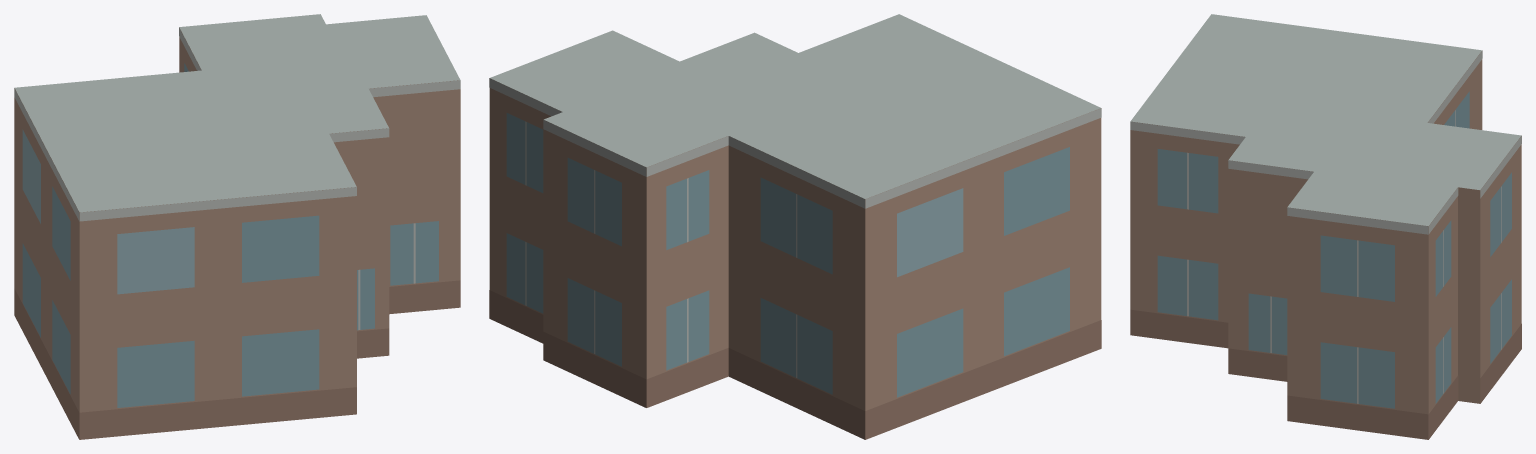
Rendered from survey-upis-32780217.glb.
3 renders of one model, left to right at view 1: azimuth 30°, elevation 25°; view 2: azimuth 150°, elevation 25°; view 3: azimuth 270°, elevation 25°, orthographic. The views are drawn at different scales.
Parts seen in each view (by area): view 1: survey-upis-32780217.tmp; view 2: survey-upis-32780217.tmp; view 3: survey-upis-32780217.tmp.
Part boxes in pixels (x1,y1,x2,y2): survey-upis-32780217.tmp: (14,14,460,439); survey-upis-32780217.tmp: (489,14,1101,439); survey-upis-32780217.tmp: (1130,14,1521,439).
Size of the model in its own units: 13 by 6.1 by 10.13.
